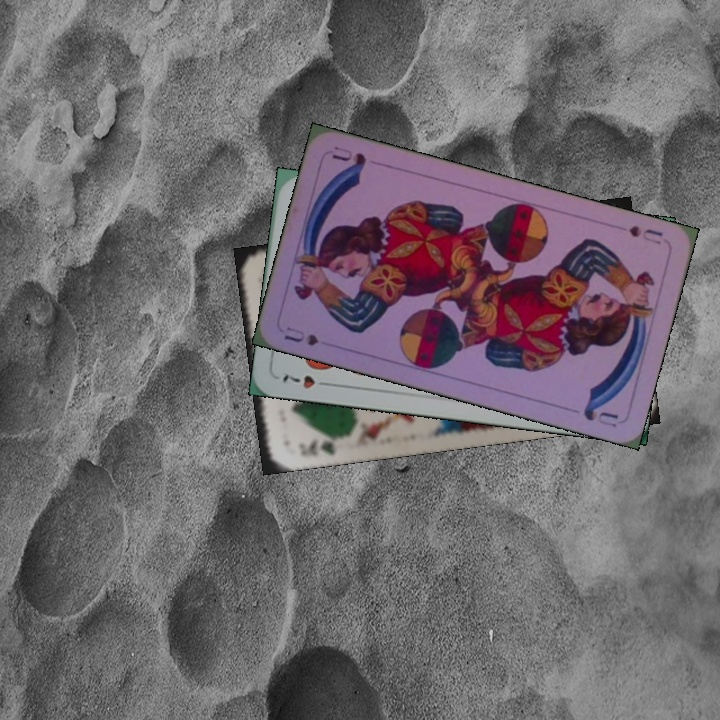GK: (294, 431, 343, 459)
H7: (278, 370, 335, 391)
SU: (625, 221, 666, 248), (280, 323, 321, 348)
